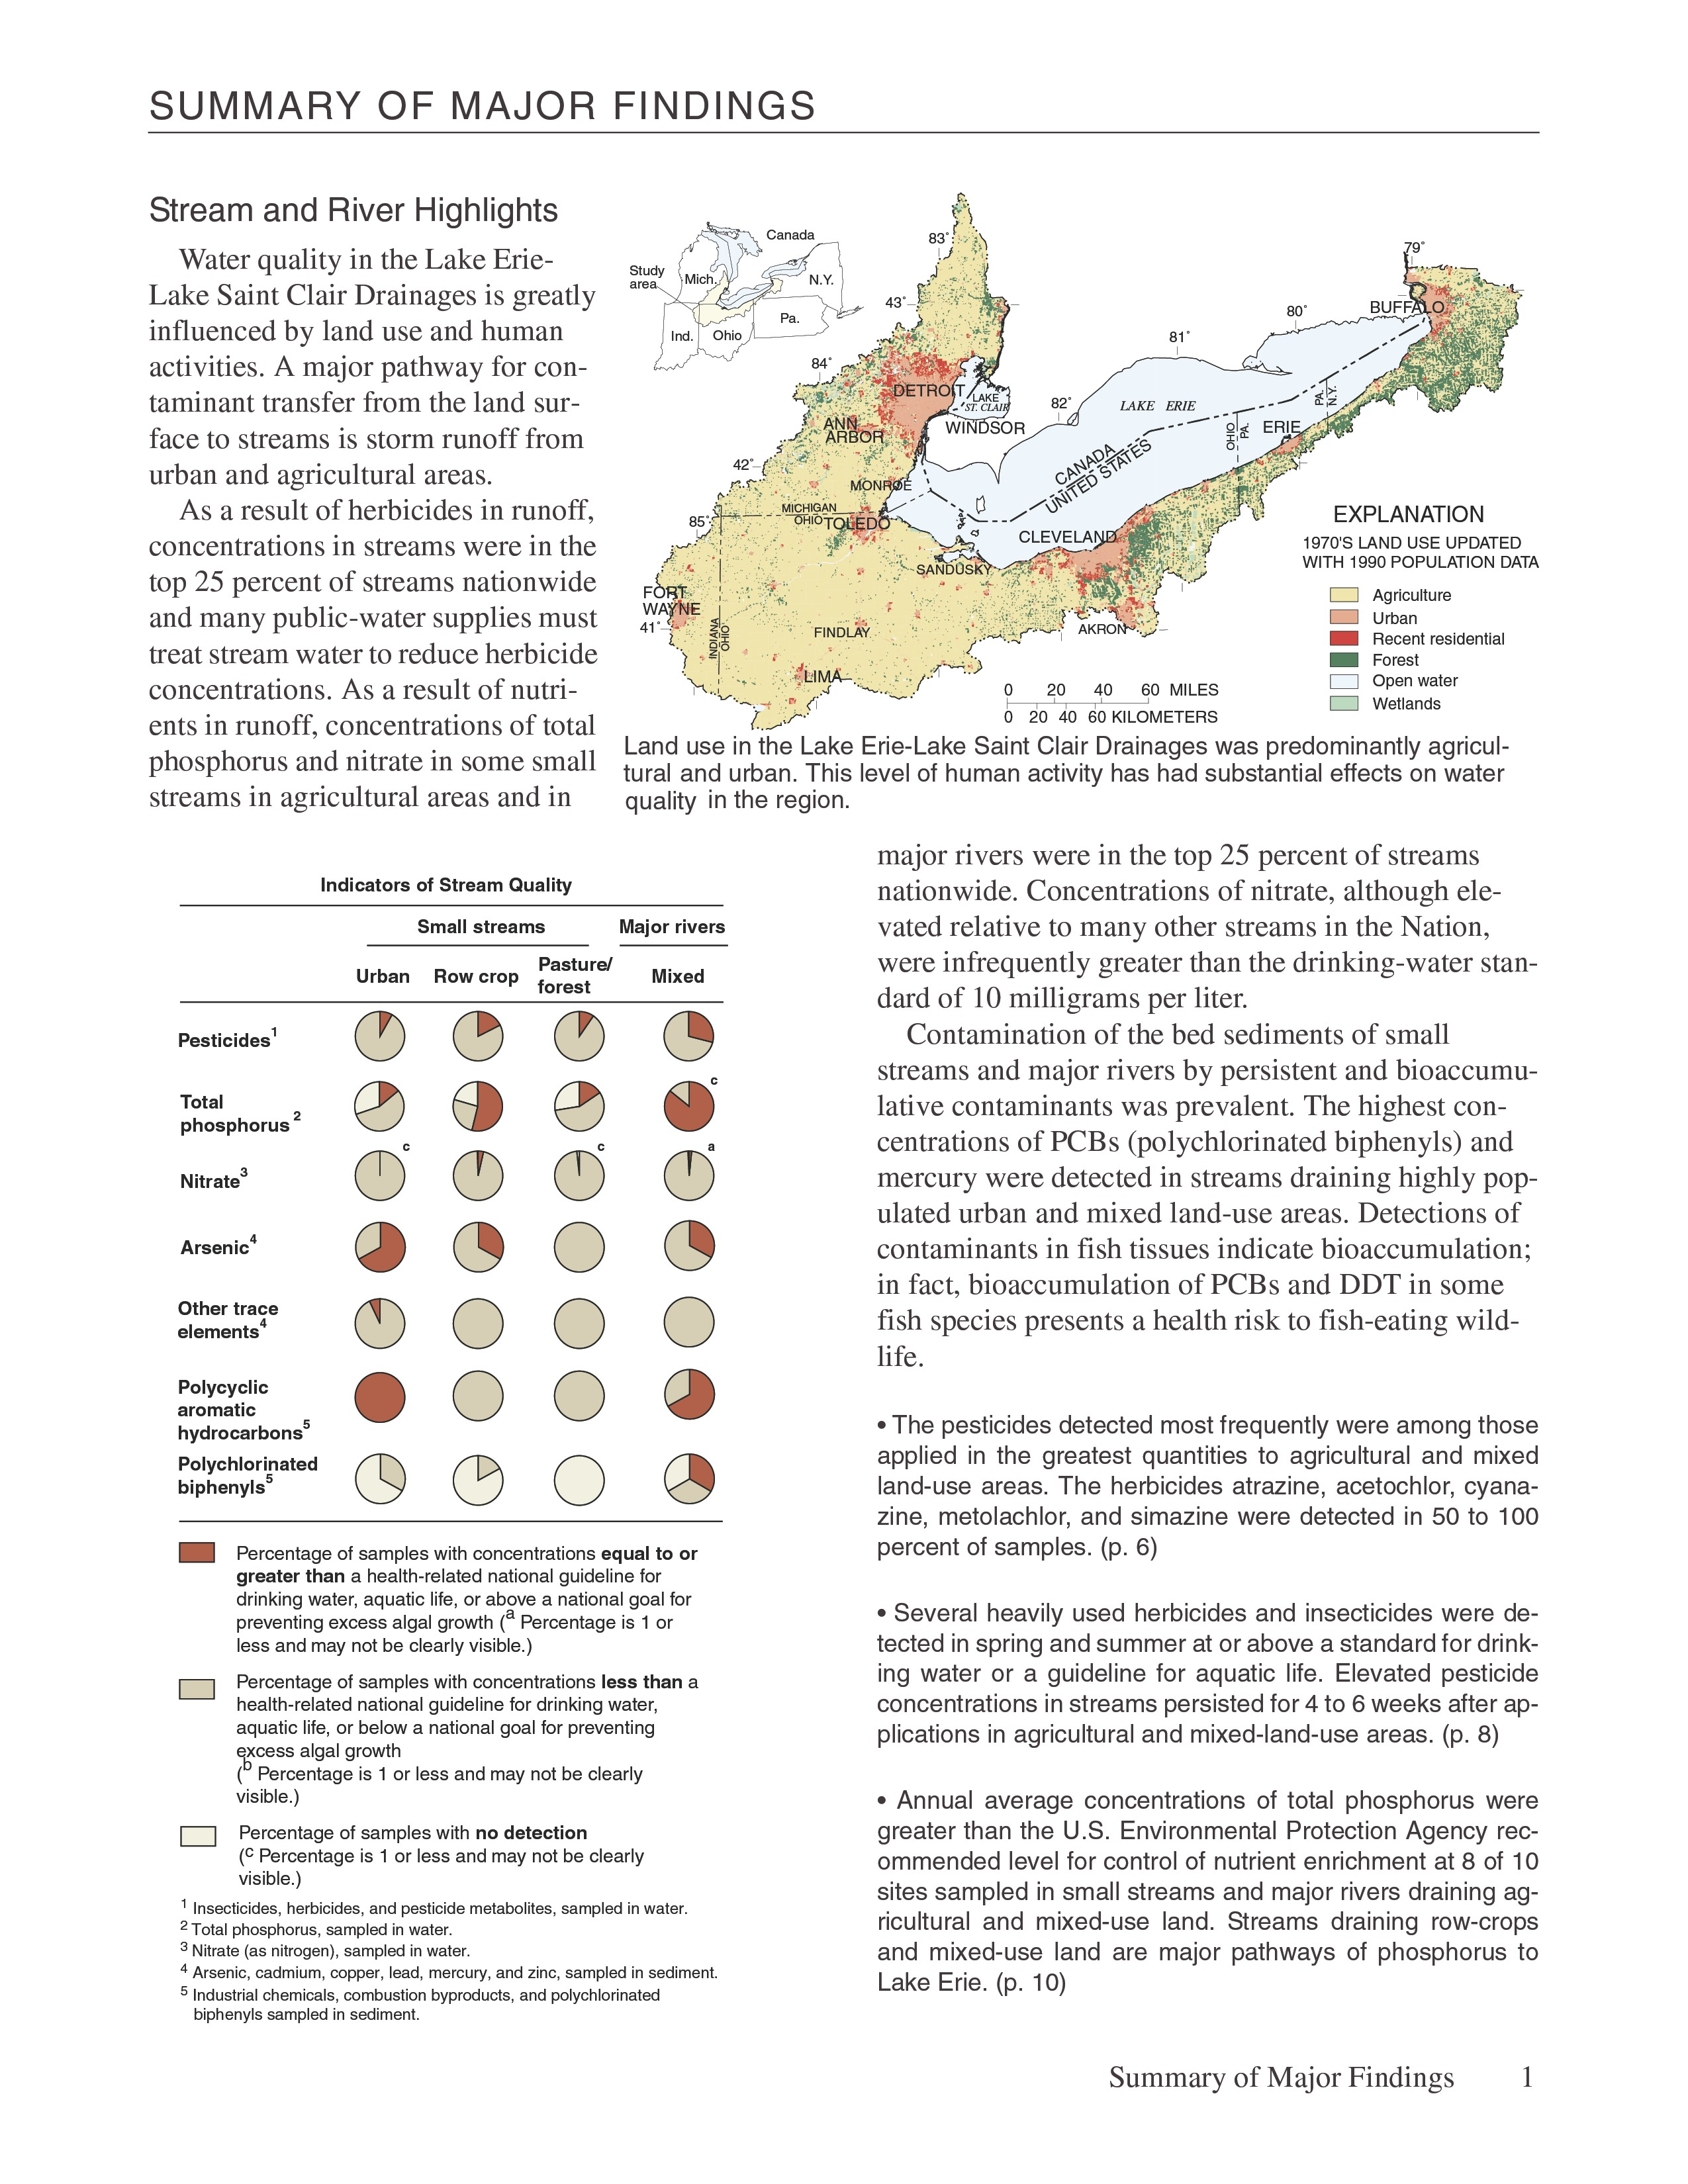caption: (179, 1539, 711, 1890), (615, 734, 1546, 815)
figure: (622, 188, 1557, 720)
list: (865, 1404, 1539, 2008), (186, 1893, 727, 2032)
section: (145, 62, 839, 142), (129, 179, 559, 245)
table: (161, 869, 746, 1539)
text: (883, 1025, 1500, 1374), (142, 493, 605, 826), (862, 826, 1557, 1009), (149, 230, 605, 482)
